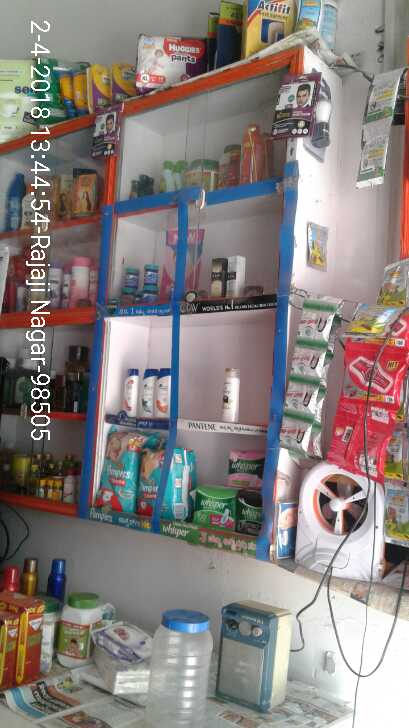vicks: (119, 260, 158, 304)
